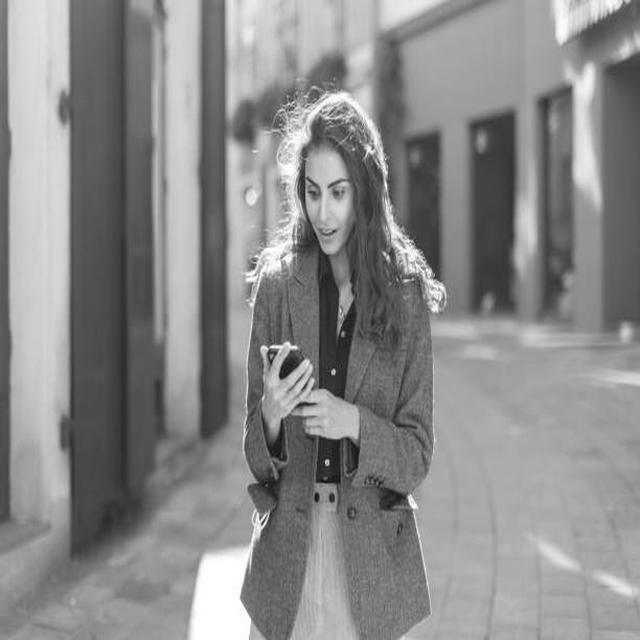Surprised: (304, 147, 356, 255)
